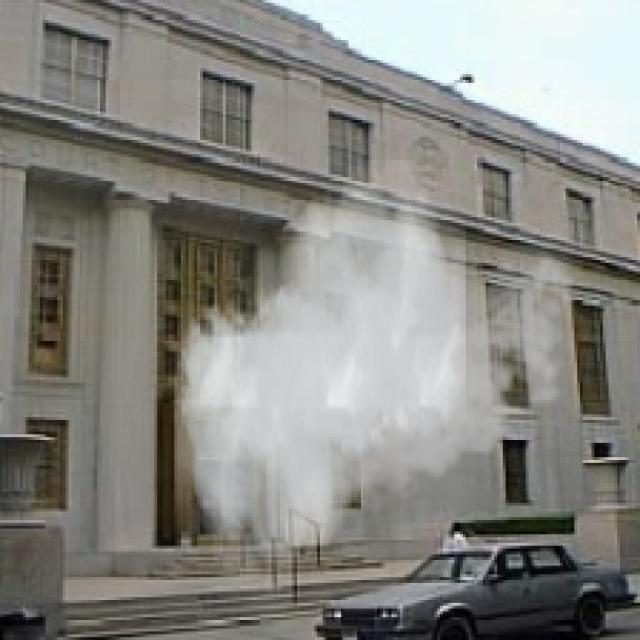Smoke: (174, 160, 589, 583)
